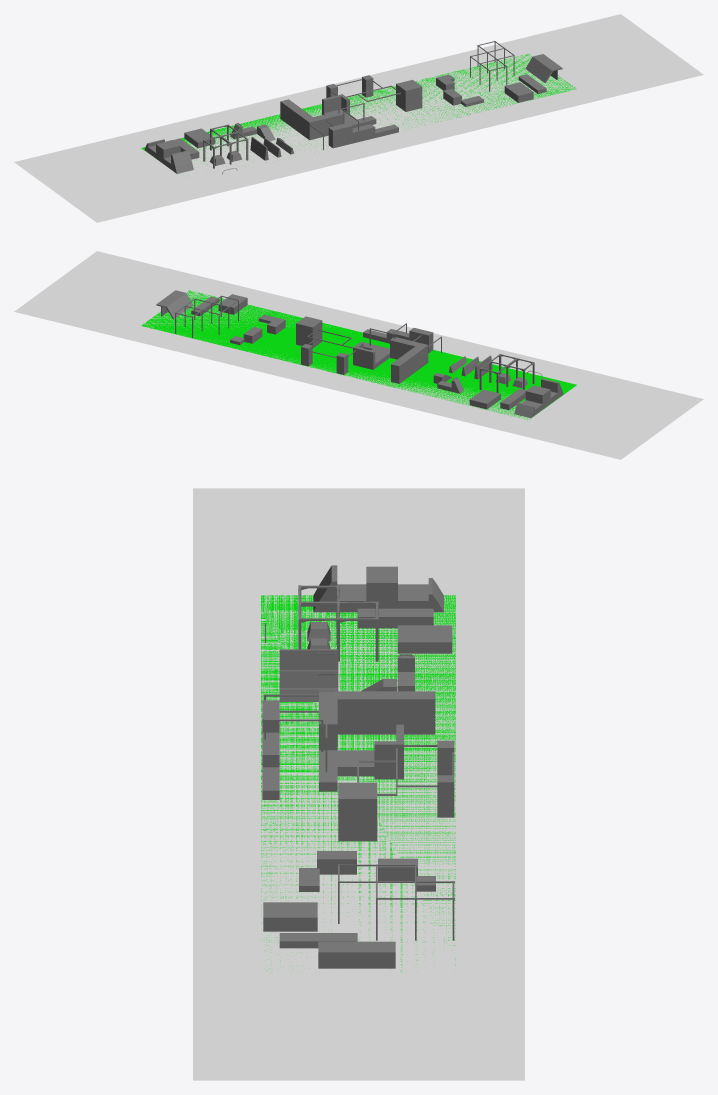
File: ParkourNew.fbx
3 views of the same model, one above another, from view 1: azimuth 30°, elevation 25°; view 2: azimuth 150°, elevation 25°; view 3: azimuth 270°, elevation 25° (orthographic). The views are drawn at different scales.
Visible parts, largest first — view 1: Plane002, concrete2, HideMe, Concrete3, Concrete1, Poles, Others1; view 2: Plane002, HideMe, concrete2, Concrete1, Concrete3, Poles, Others1; view 3: Plane002, HideMe, concrete2, Concrete1, Concrete3, Poles, Others1.
Part boxes in pixels (box(x1,y1,x2,y2)): Plane002: box(14, 14, 703, 222); concrete2: box(230, 75, 422, 148); HideMe: box(141, 54, 576, 174); Concrete3: box(436, 54, 562, 106); Concrete1: box(144, 128, 242, 173); Poles: box(203, 41, 514, 168); Others1: box(250, 137, 293, 160); Plane002: box(14, 251, 703, 459); HideMe: box(141, 290, 576, 419); concrete2: box(296, 316, 463, 393); Concrete1: box(469, 373, 563, 417); Concrete3: box(156, 290, 285, 344); Poles: box(175, 295, 534, 393); Others1: box(449, 355, 492, 379); Plane002: box(193, 488, 524, 1080); HideMe: box(261, 595, 455, 971); concrete2: box(262, 654, 454, 841); Concrete1: box(307, 565, 452, 653); Concrete3: box(263, 851, 435, 968); Poles: box(263, 585, 454, 940); Others1: box(279, 649, 338, 701).
Size of the model in its own units: 90 by 3.19 by 21.33.
